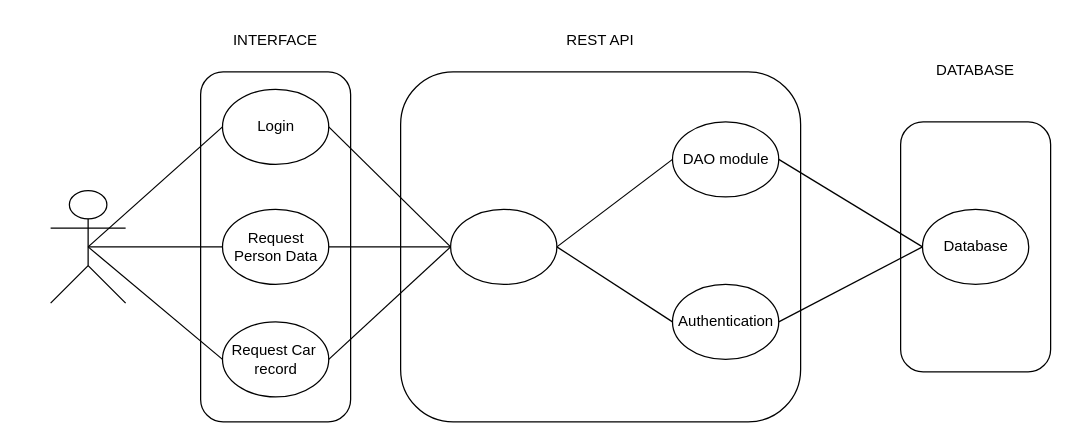
Some shapes in this 1073 by 444 pixel diagram are drawn without their labels. The box of each missing label's shape, as (x1, y1, x2, y2) in pixels:
Insurance Company: (49, 189, 126, 303)
Request Handler: (449, 208, 557, 284)
